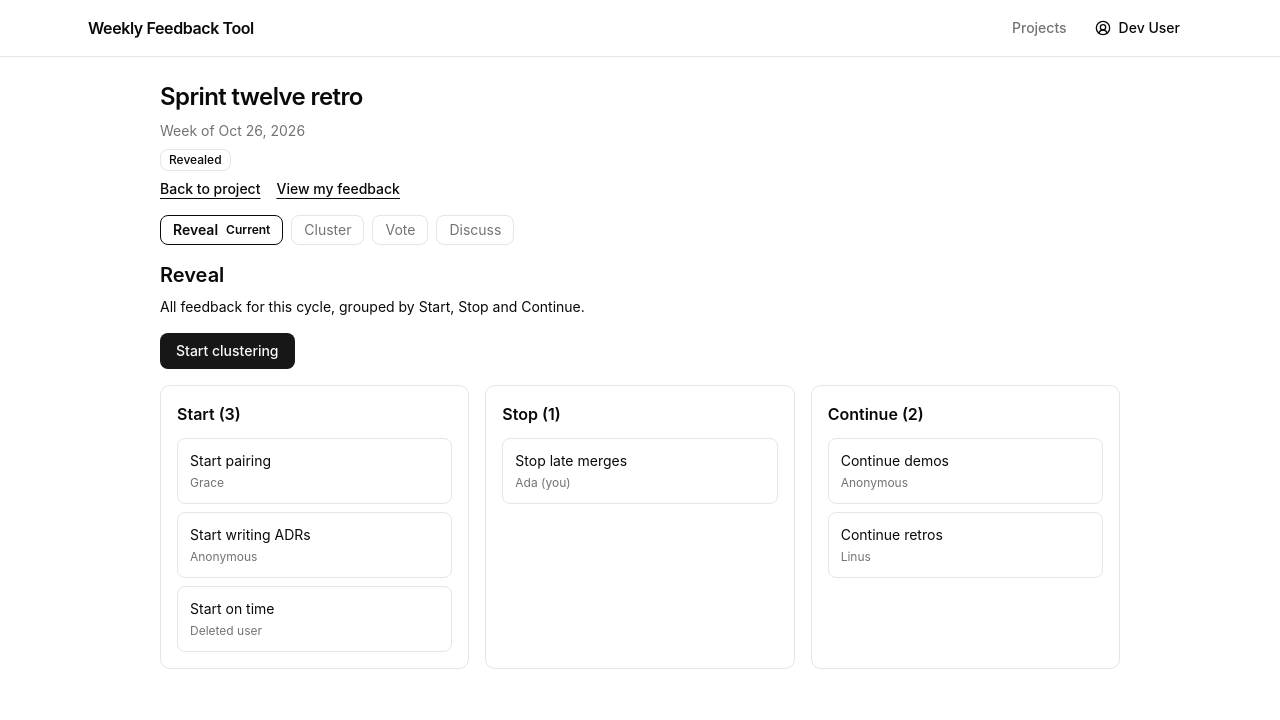
Scenario: advancing the stage › stage_out_of_date closes the confirmation, shows its message, and re-reads the board
Click the button "Start clustering" at [227, 351], box x1=160 y1=333 x2=294 y2=369
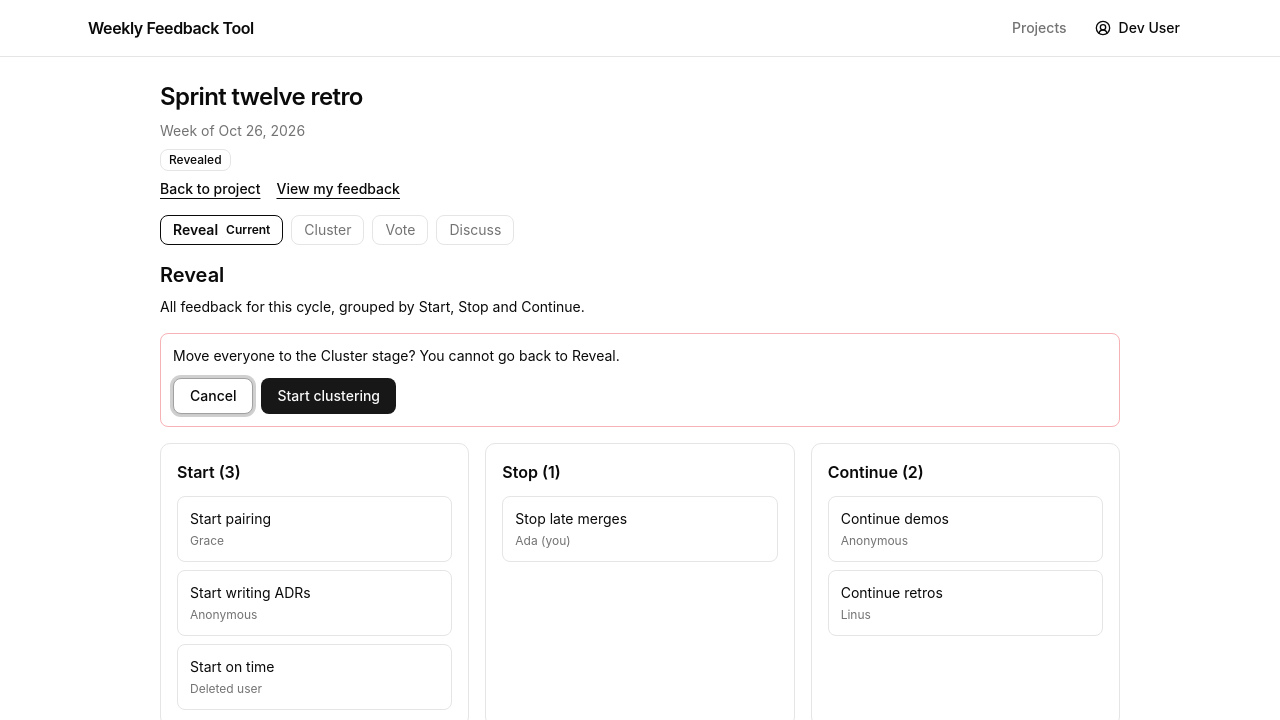
Click the button "Start clustering" at [329, 396], box x1=262 y1=378 x2=396 y2=414
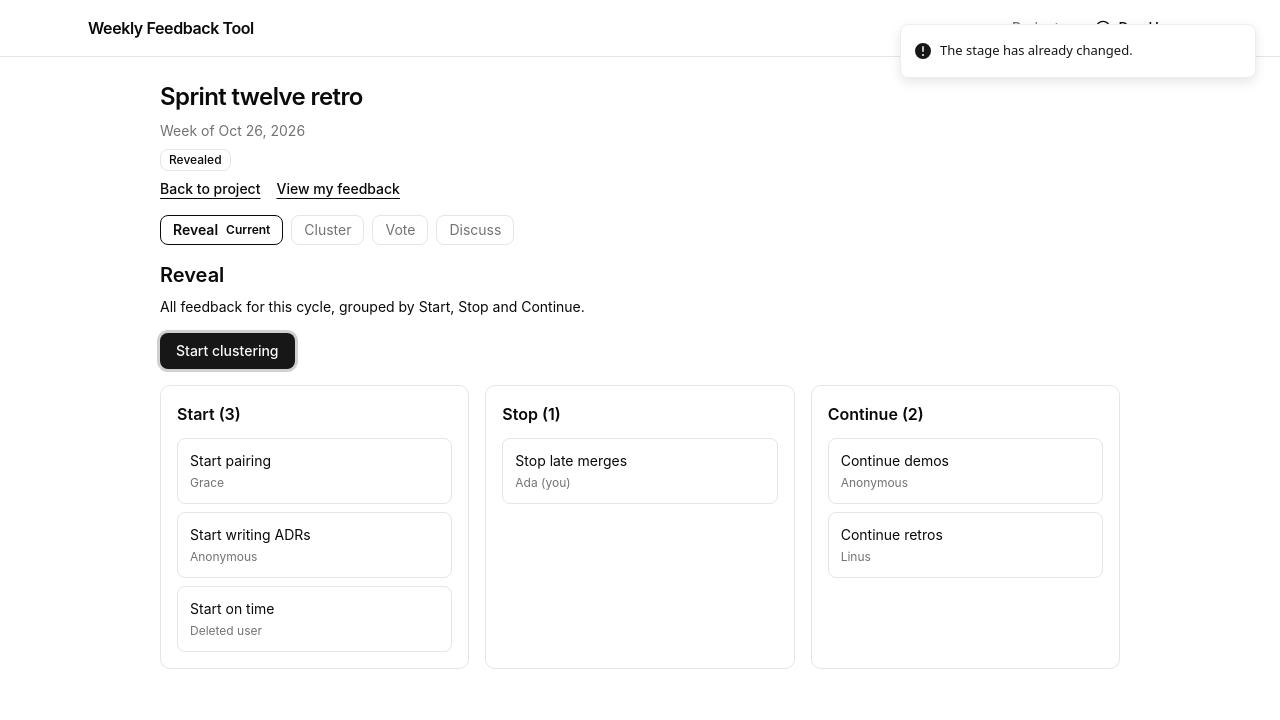
Expected: the button "Start clustering" is enabled, x1=160 y1=333 x2=294 y2=369
Result: the text "The stage has already changed." is shown at x1=940 y1=41 x2=1133 y2=60
